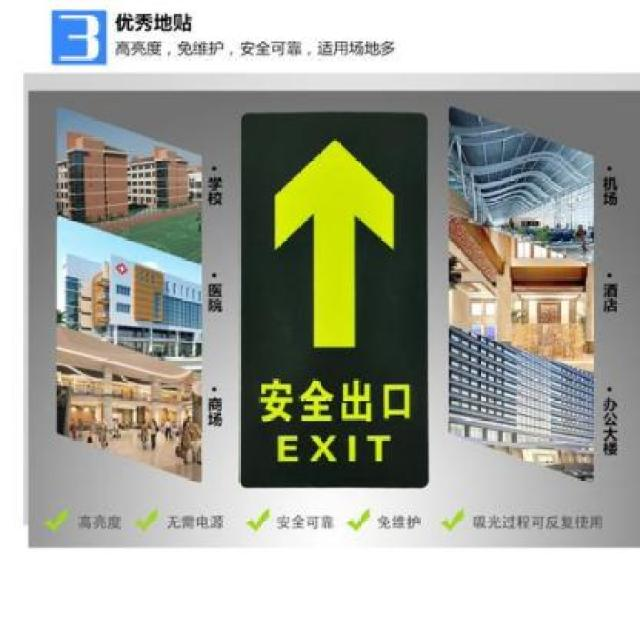exit_sign: (238, 106, 432, 499)
